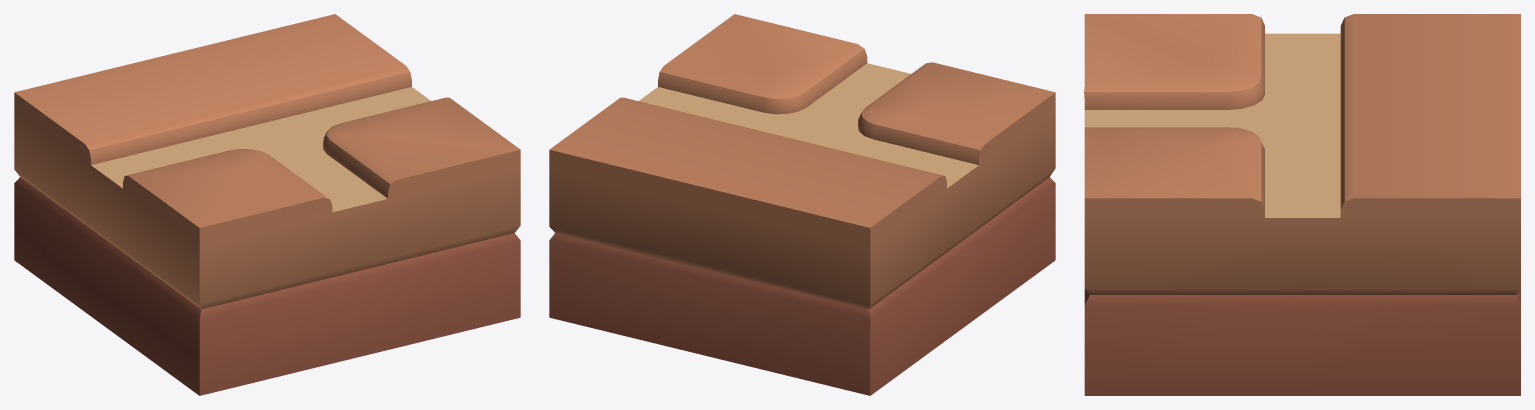
Rendered from square_rock_roadD_detail.glb.
The picture shows the model from 3 angles, left to right: view 1: azimuth 30°, elevation 25°; view 2: azimuth 150°, elevation 25°; view 3: azimuth 270°, elevation 25°; orthographic projection. The views are drawn at different scales.
Parts seen in each view (by area): view 1: square_rock_roadD_detail; view 2: square_rock_roadD_detail; view 3: square_rock_roadD_detail.
Part boxes in pixels (<box>): square_rock_roadD_detail: <box>14,14,520,395</box>; square_rock_roadD_detail: <box>549,14,1055,395</box>; square_rock_roadD_detail: <box>1084,14,1520,395</box>.
Size of the model in its own units: 2 by 1 by 2.
